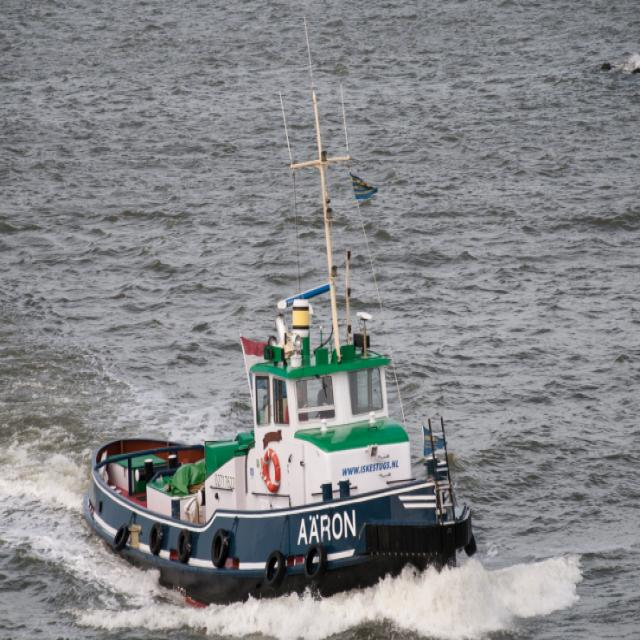tugboat: (81, 281, 485, 622)
